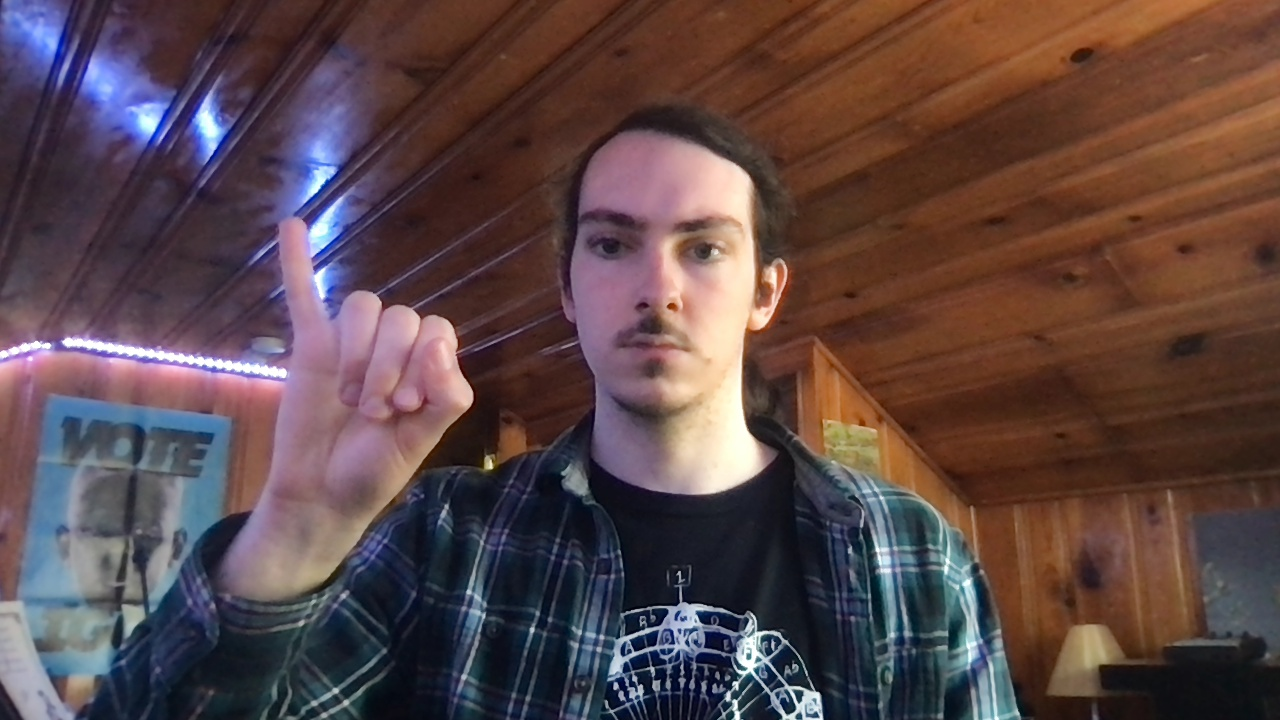i: (264, 215, 476, 525)
